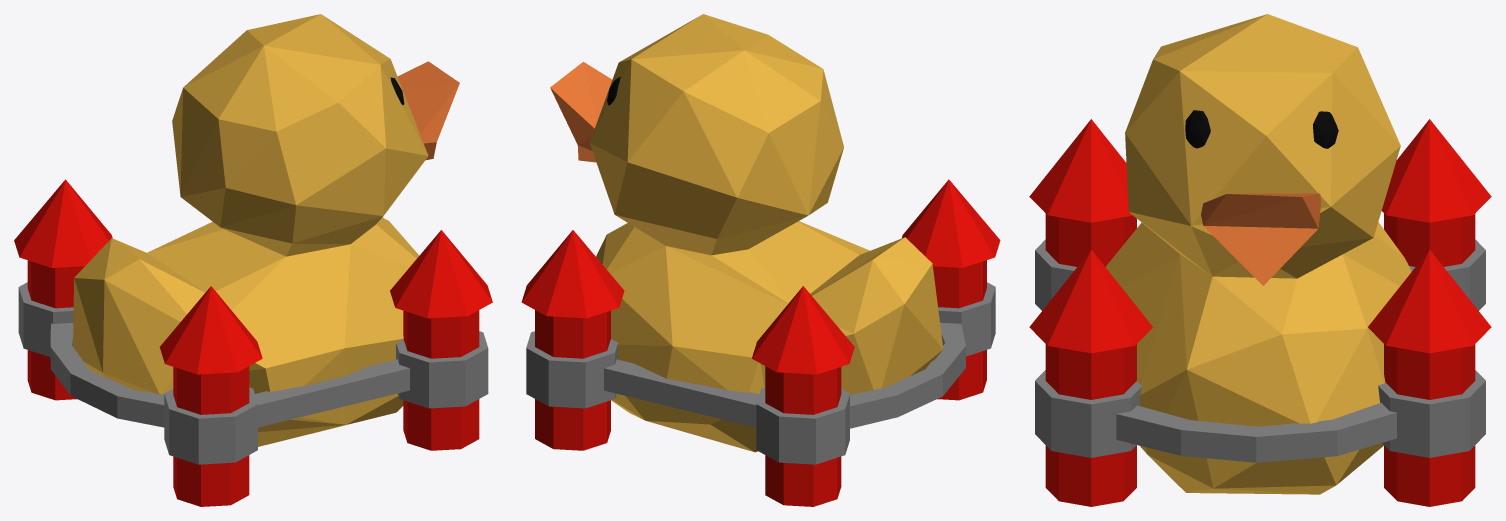
File: Dukke.fbx
3 views of the same model, side by side, from view 1: azimuth 30°, elevation 25°; view 2: azimuth 150°, elevation 25°; view 3: azimuth 270°, elevation 25° (orthographic). The views are drawn at different scales.
Visible parts, largest first — view 1: Cube.003; view 2: Cube.003; view 3: Cube.003.
Part boxes in pixels (x1=…): Cube.003: x1=14, y1=14, x2=492, y2=506; Cube.003: x1=521, y1=14, x2=1000, y2=506; Cube.003: x1=1029, y1=14, x2=1491, y2=506.
Size of the model in its own units: 395 by 374 by 363.
